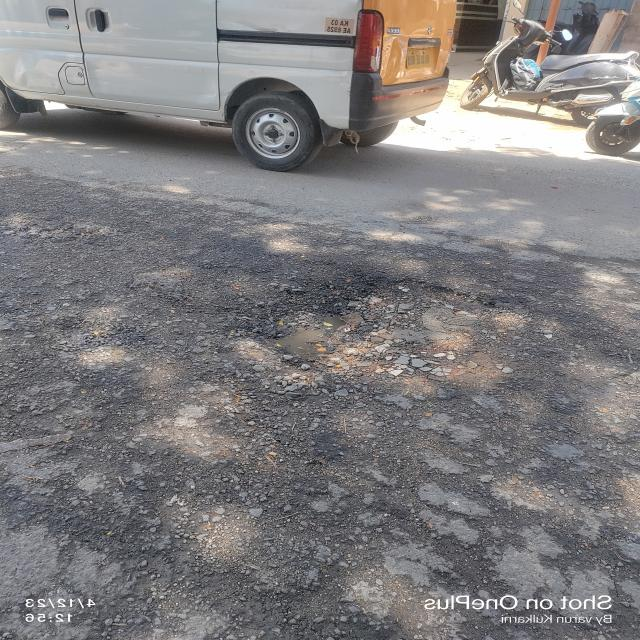potholes: (227, 265, 481, 391)
